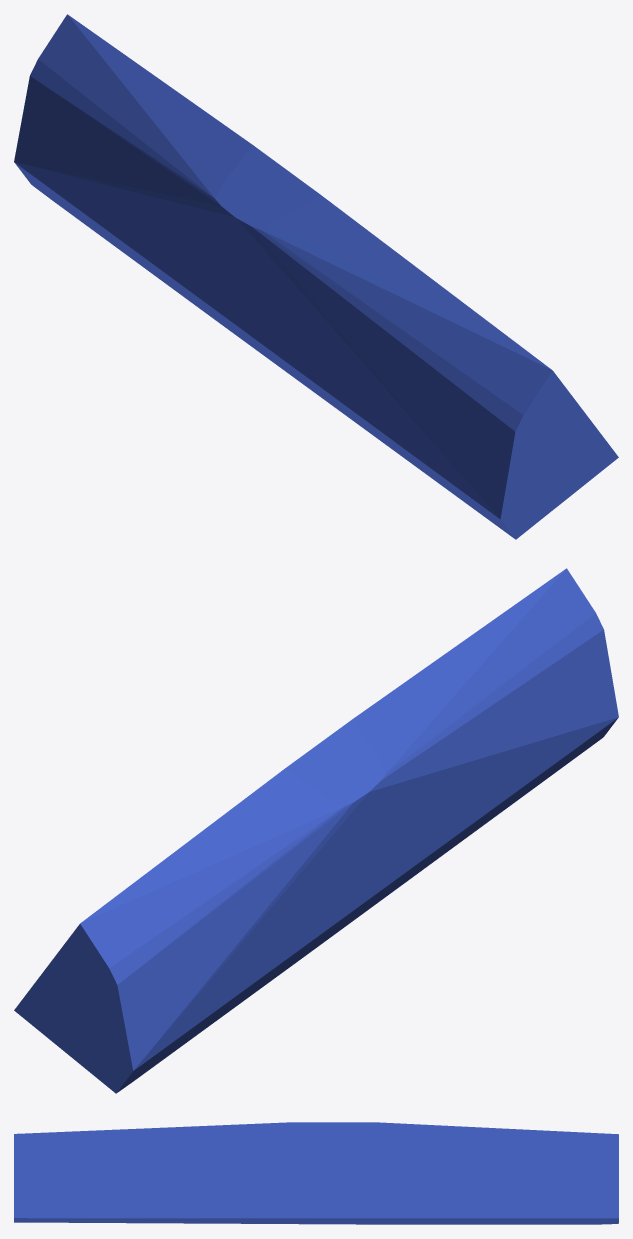
Rendered from converted_Downdraft_Assy_collision_44_4563caff.obj.
The picture shows the model from 3 angles, top to bottom: view 1: azimuth 30°, elevation 25°; view 2: azimuth 150°, elevation 25°; view 3: azimuth 270°, elevation 25°; orthographic projection. The views are drawn at different scales.
Bounding box in the file's own units: 0.0745 × 0.0996 × 0.4956.
